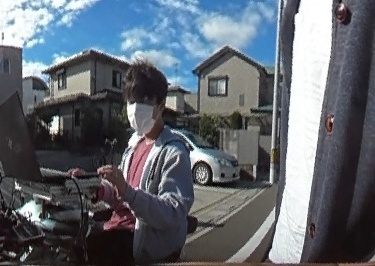person: (82, 60, 194, 253)
